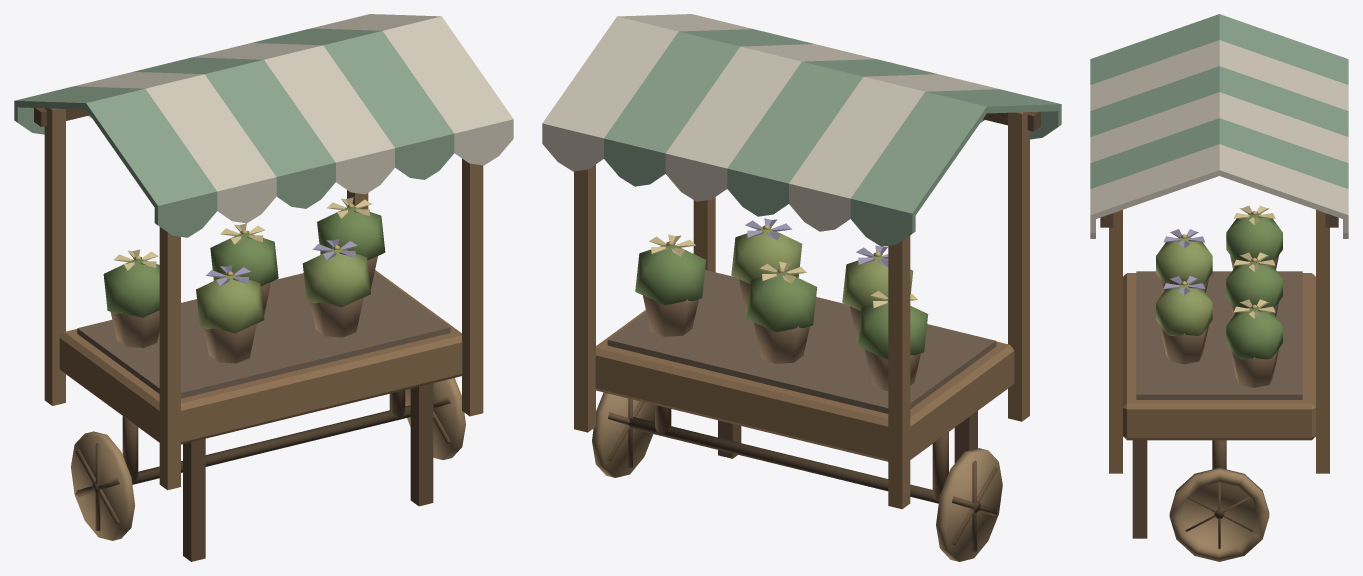
The model's file is flower_cart.glb.
3 views of the same model, side by side, from view 1: azimuth 30°, elevation 25°; view 2: azimuth 150°, elevation 25°; view 3: azimuth 270°, elevation 25° (orthographic). The views are drawn at different scales.
Visible parts, largest first — view 1: flower_cart; view 2: flower_cart; view 3: flower_cart.
Boxes of the visible parts, left/top/right/bottom form: flower_cart: left=14, top=14, right=513, bottom=561; flower_cart: left=542, top=14, right=1061, bottom=561; flower_cart: left=1090, top=14, right=1348, bottom=561.
Size of the model in its own units: 2 by 2.35 by 1.4.
